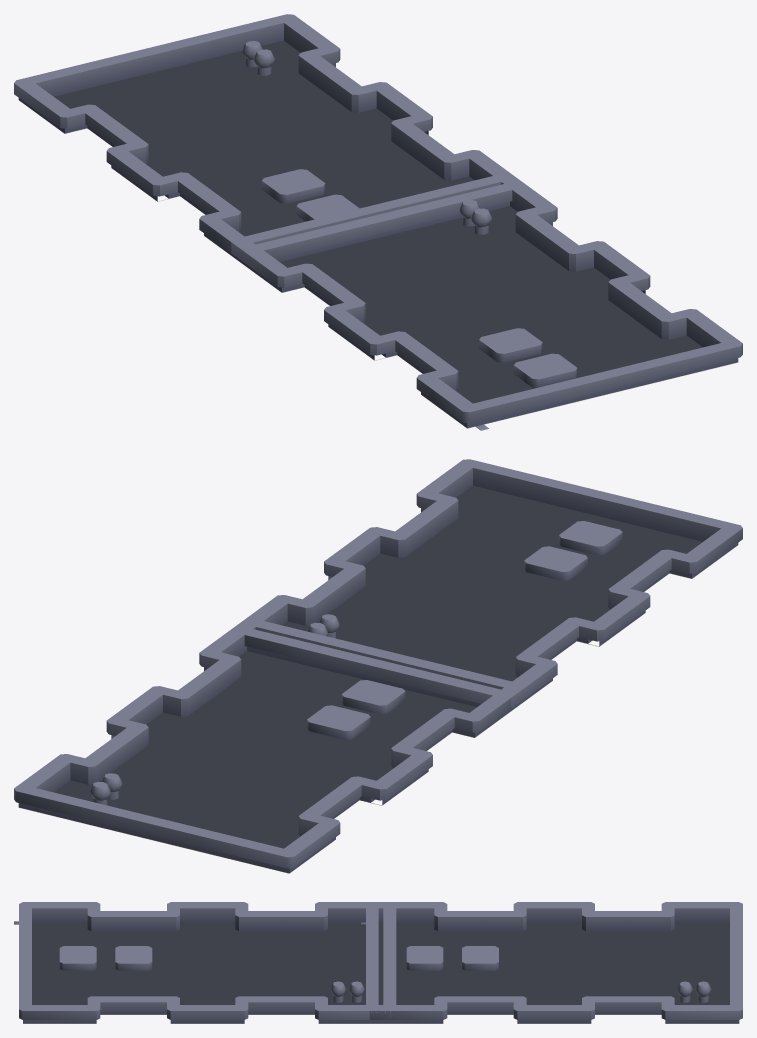
The model's file is commercial-j.glb.
3 views of the same model, one above another, from view 1: azimuth 30°, elevation 25°; view 2: azimuth 150°, elevation 25°; view 3: azimuth 270°, elevation 25° (orthographic). The views are drawn at different scales.
Parts seen in each view (by area): view 1: building-j; view 2: building-j; view 3: building-j.
Part boxes in pixels (x1=…): building-j: x1=14, y1=14, x2=742, y2=430; building-j: x1=14, y1=459, x2=742, y2=873; building-j: x1=14, y1=902, x2=742, y2=1023.
Bounding box in the file's own units: 14.81 × 1.06 × 41.83.
Materials: 1 (1 with a texture image).
